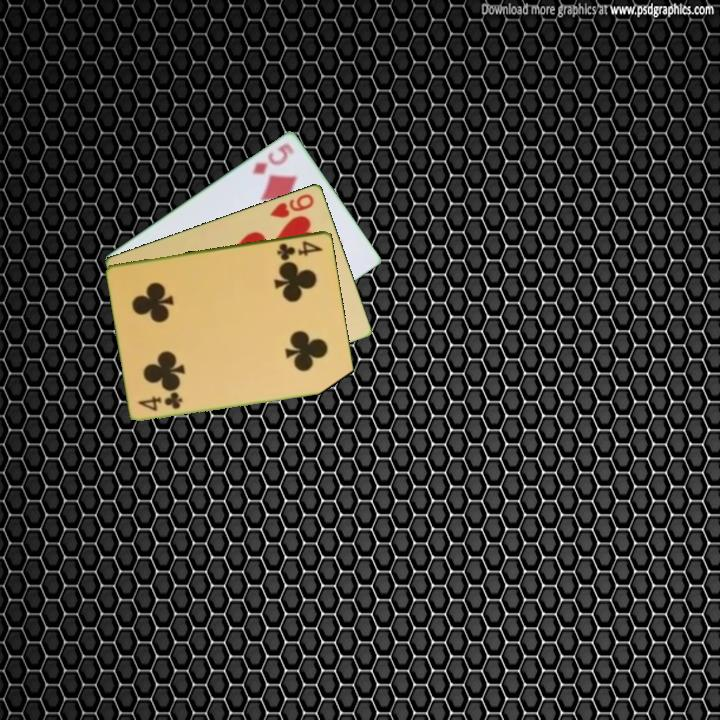4c: (274, 237, 325, 262), (135, 390, 185, 414)
5d: (248, 139, 297, 177)
9h: (266, 190, 317, 220)
